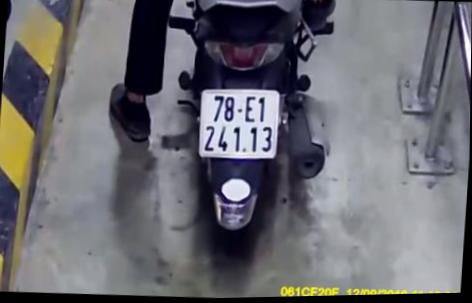LP: (198, 89, 283, 164)
